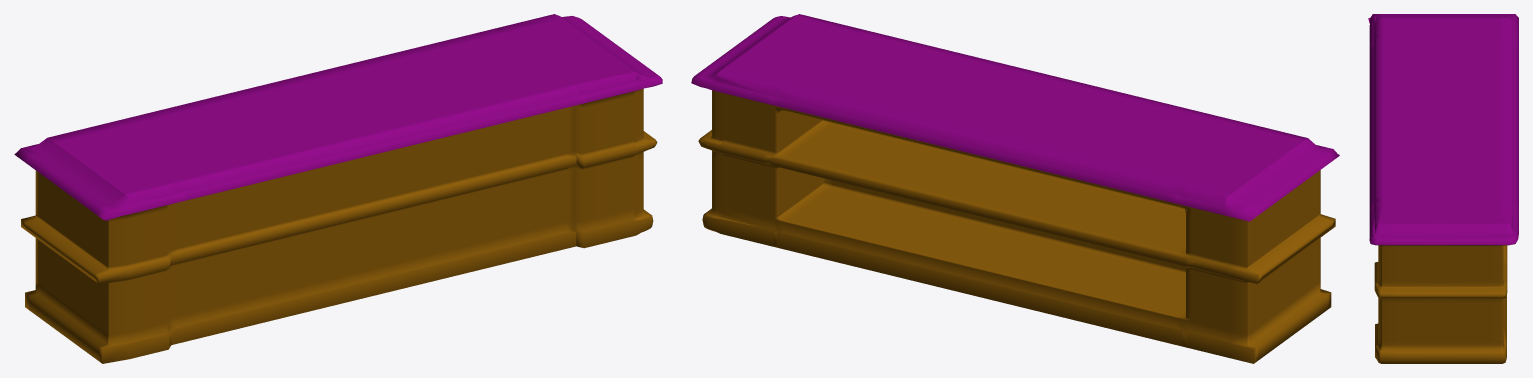
File: Countertop.fbx
3 renders of one model, left to right at view 1: azimuth 30°, elevation 25°; view 2: azimuth 150°, elevation 25°; view 3: azimuth 270°, elevation 25°, orthographic. The views are drawn at different scales.
Visible parts, largest first — view 1: COUNTERTOP_M_GOEM; view 2: COUNTERTOP_M_GOEM; view 3: COUNTERTOP_M_GOEM.
Part boxes in pixels (x1=…): COUNTERTOP_M_GOEM: x1=14, y1=14, x2=662, y2=363; COUNTERTOP_M_GOEM: x1=691, y1=14, x2=1339, y2=363; COUNTERTOP_M_GOEM: x1=1368, y1=14, x2=1518, y2=363.
Bounding box in the file's own units: 411 × 113 × 115.
